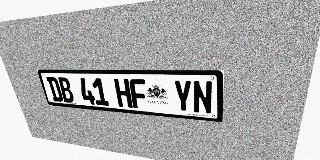1: (90, 78, 109, 106)
4: (78, 78, 96, 105)
B: (57, 77, 75, 103)
D: (46, 77, 64, 102)
F: (129, 79, 148, 109)
H: (114, 78, 133, 108)
N: (192, 80, 213, 115)
Y: (173, 80, 192, 113)
